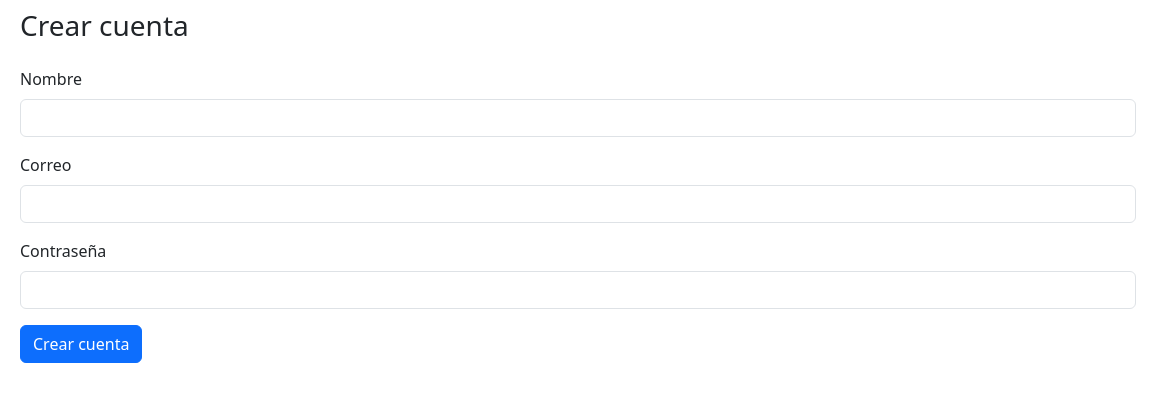
Test: Registro › avisa cuando el correo ya tiene una cuenta
Type "Otra Persona" into the field labelled "Nombre".
click(578, 118); type("Otra Persona")  # box [20,99,1136,137]
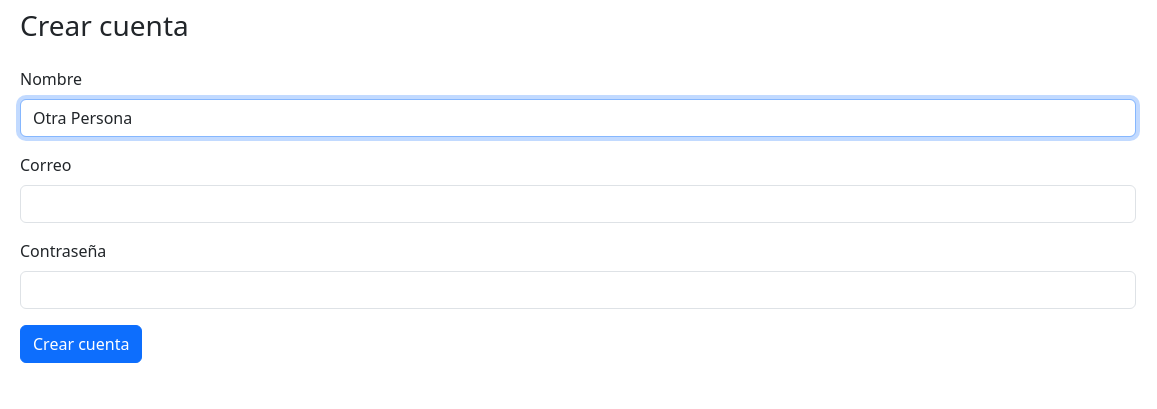
Type "agu.perez@duocuc.cl" into the field labelled "Correo".
click(578, 204); type("agu.perez@duocuc.cl")  # box [20,185,1136,223]
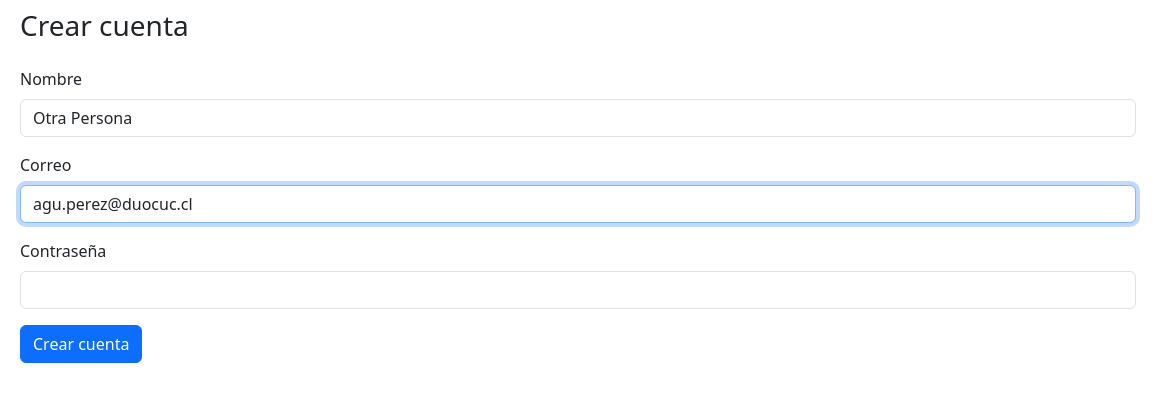
Type "1234" into the password field labelled "Contraseña".
click(578, 290); type("1234")  # box [20,271,1136,309]
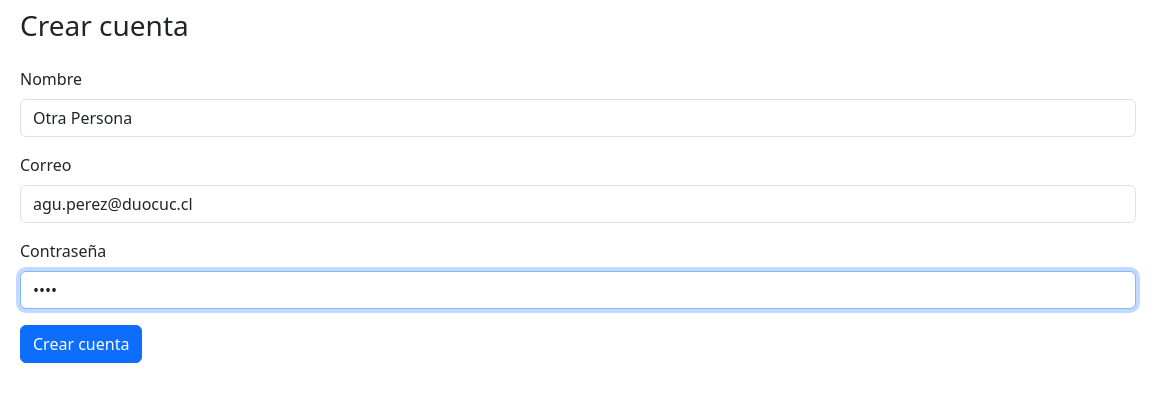
Click the button "Crear cuenta".
click(81, 344)  # box [20,325,142,363]
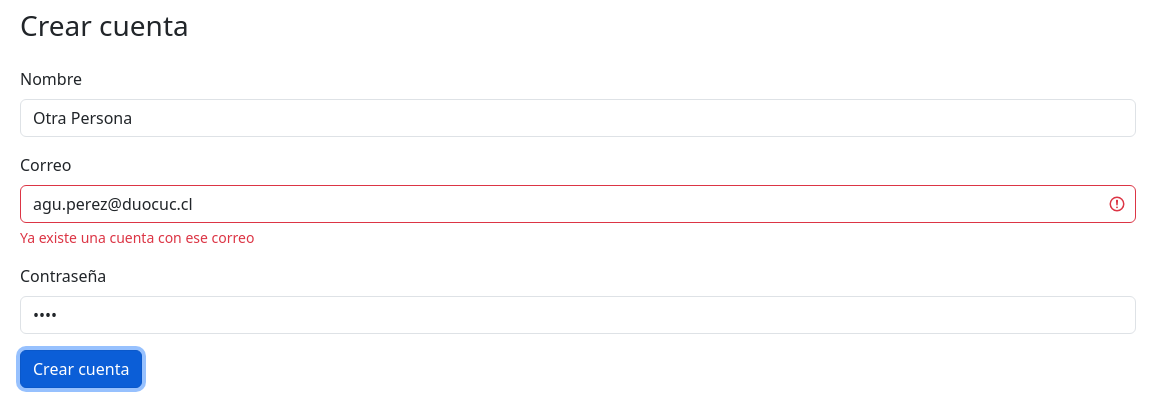
Expected: the text "Ya existe una cuenta con ese correo" is shown, [20,228,254,247]
